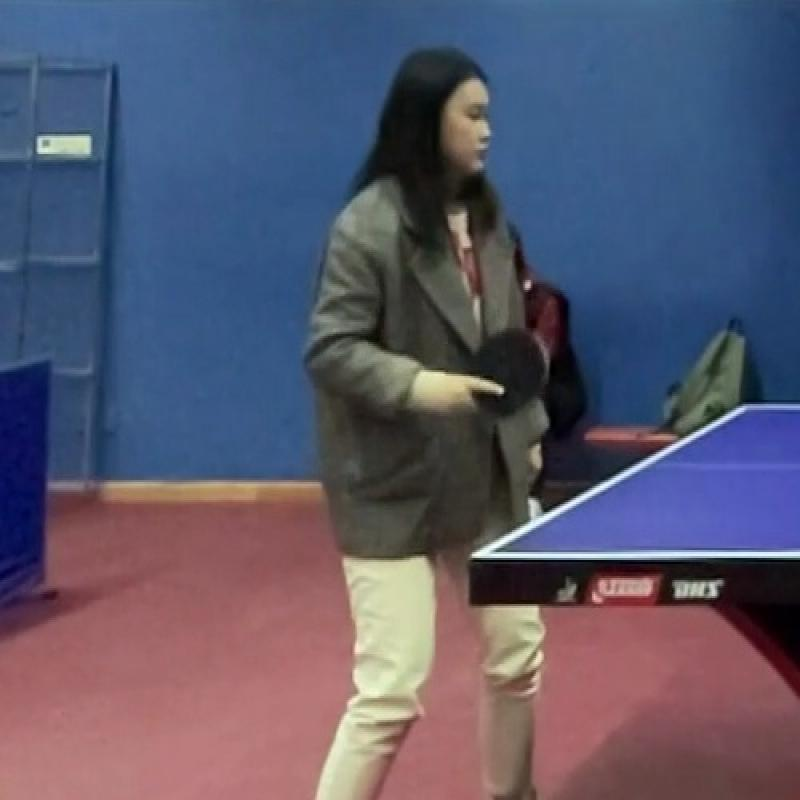bats: (459, 324, 558, 435)
